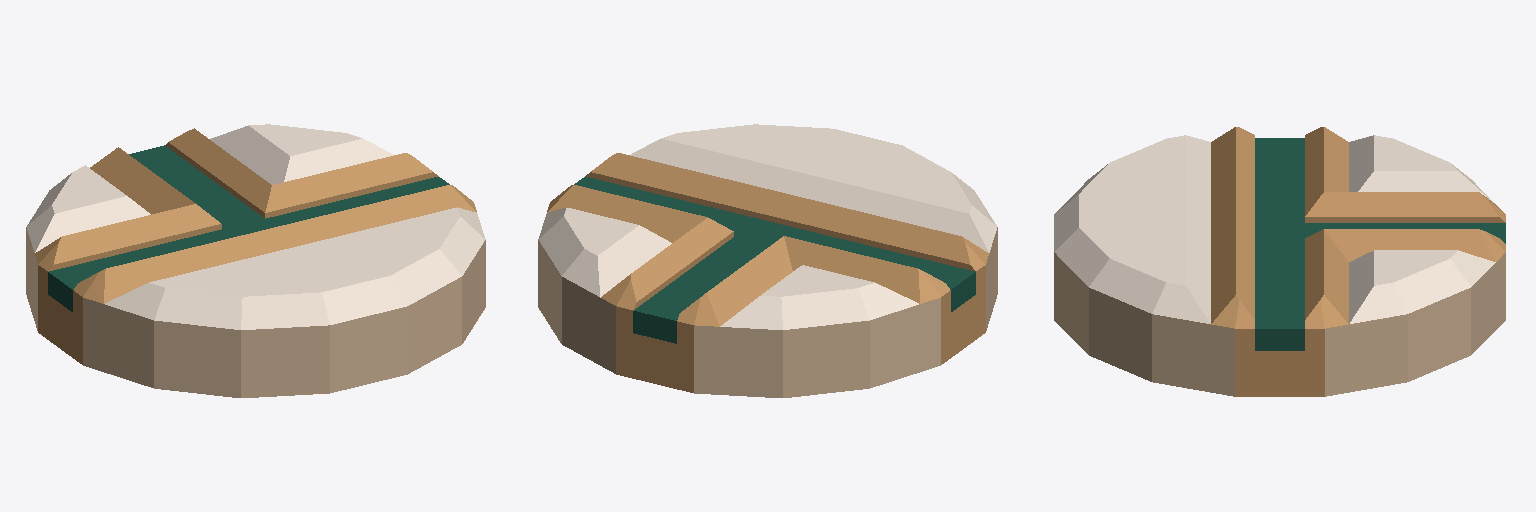
Rendered from Puzzle_Floor_Conduit_Rotating_Platform_TJoint.obj.
3 renders of one model, left to right at view 1: azimuth 30°, elevation 25°; view 2: azimuth 150°, elevation 25°; view 3: azimuth 270°, elevation 25°, orthographic.
Parts seen in each view (by area): view 1: object2, object1; view 2: object2, object1; view 3: object2, object1.
Part boxes in pixels (x1,y1,x2,y2): object2: (26, 124, 485, 397); object1: (48, 145, 449, 311); object2: (538, 124, 997, 397); object1: (574, 177, 975, 343); object2: (1054, 127, 1505, 396); object1: (1255, 138, 1505, 350).
Bounding box in the file's own units: 0.9 × 0.2 × 0.9.